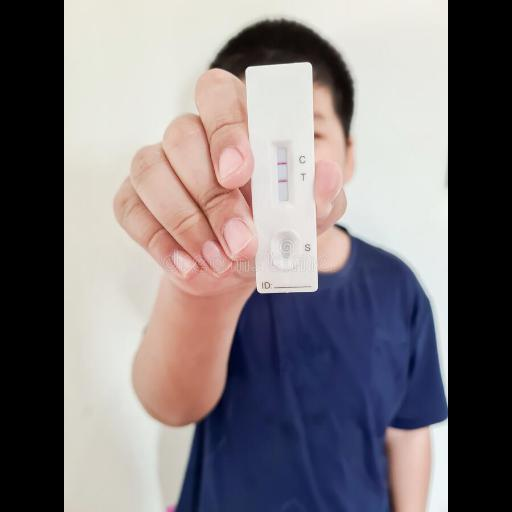Pos: (247, 63, 320, 294)
